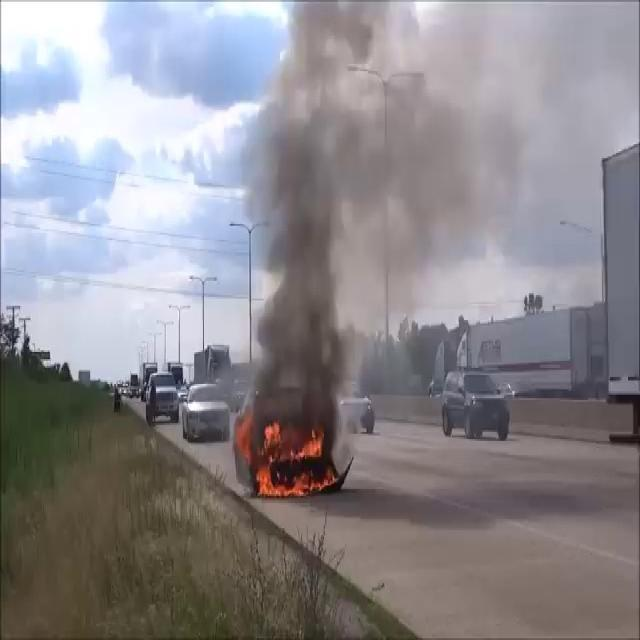Fire: (252, 414, 336, 500)
Smoke: (242, 1, 508, 419)
